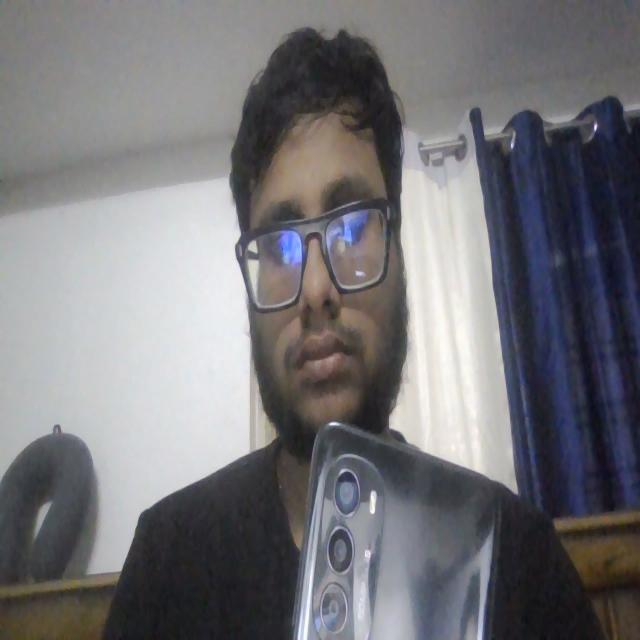phone: (301, 428, 498, 640)
